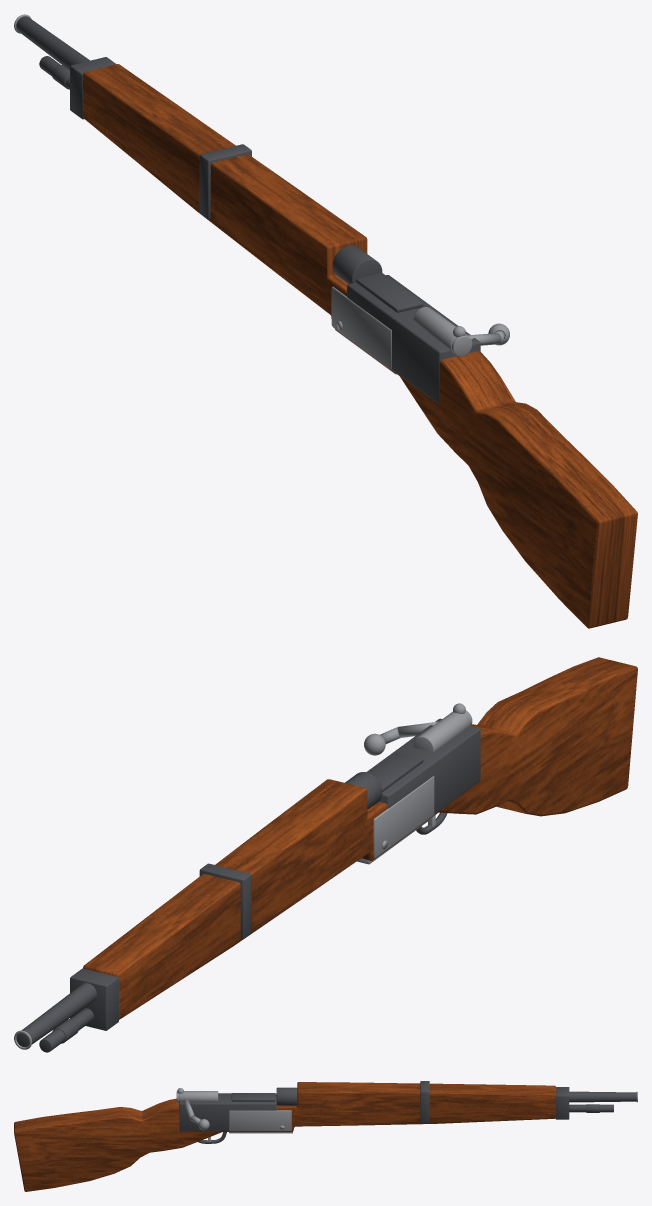
The model's file is mas36.glb.
The picture shows the model from 3 angles, top to bottom: view 1: azimuth 30°, elevation 25°; view 2: azimuth 150°, elevation 25°; view 3: azimuth 270°, elevation 25°; orthographic projection. The views are drawn at different scales.
Parts seen in each view (by area): view 1: stock, receiver, mag_plate, barrel, receiver_rail, receiver_ring, band_0, bolt_body, nose_block; view 2: stock, receiver, mag_plate, nose_block, barrel, band_0, bolt_body, receiver_rail, bayonet_tube, receiver_ring; view 3: stock, receiver, mag_plate, barrel, nose_block, band_0, receiver_ring, receiver_rail, bolt_body, bayonet_tube.
Part boxes in pixels (x1=…): stock: x1=83, y1=64, x2=637, y2=628; receiver: x1=347, y1=275, x2=480, y2=403; mag_plate: x1=331, y1=286, x2=391, y2=369; barrel: x1=16, y1=16, x2=89, y2=70; receiver_rail: x1=356, y1=273, x2=423, y2=312; receiver_ring: x1=332, y1=245, x2=382, y2=283; band_0: x1=199, y1=144, x2=251, y2=219; bolt_body: x1=413, y1=307, x2=469, y2=355; nose_block: x1=70, y1=57, x2=116, y2=119; stock: x1=83, y1=657, x2=637, y2=1019; receiver: x1=366, y1=718, x2=480, y2=814; mag_plate: x1=373, y1=776, x2=434, y2=858; nose_block: x1=70, y1=968, x2=118, y2=1030; barrel: x1=16, y1=983, x2=96, y2=1046; band_0: x1=199, y1=863, x2=251, y2=938; bolt_body: x1=413, y1=711, x2=470, y2=752; receiver_rail: x1=369, y1=752, x2=423, y2=791; bayonet_tube: x1=39, y1=1008, x2=93, y2=1052; receiver_ring: x1=345, y1=772, x2=382, y2=809; stock: x1=14, y1=1082, x2=556, y2=1191; receiver: x1=179, y1=1093, x2=276, y2=1131; mag_plate: x1=229, y1=1110, x2=291, y2=1131; barrel: x1=569, y1=1091, x2=636, y2=1102; nose_block: x1=555, y1=1087, x2=569, y2=1119; band_0: x1=420, y1=1081, x2=429, y2=1122; receiver_ring: x1=276, y1=1087, x2=297, y2=1105; receiver_rail: x1=231, y1=1093, x2=275, y2=1101; bolt_body: x1=179, y1=1091, x2=218, y2=1102; bayonet_tube: x1=569, y1=1104, x2=613, y2=1112.
Size of the model in its own units: 0.0922 by 0.1792 by 1.
4 materials, 1 textured.
